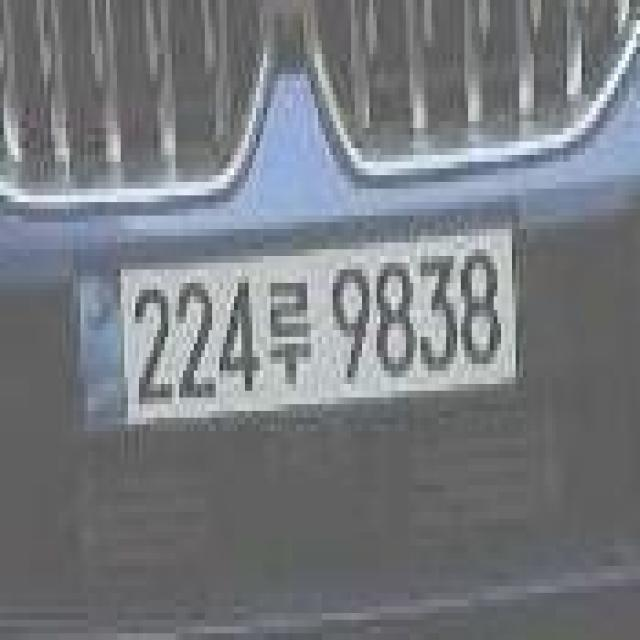illegal_plate: (67, 208, 527, 449)
